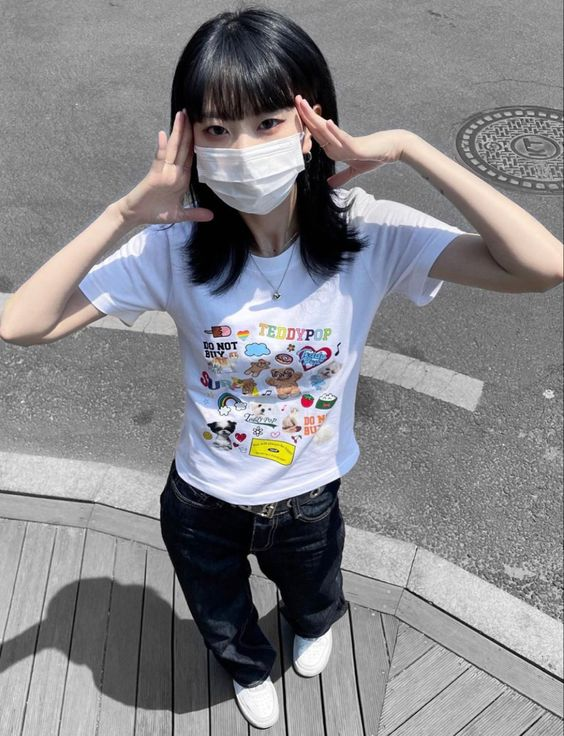People: (0, 7, 562, 727)
